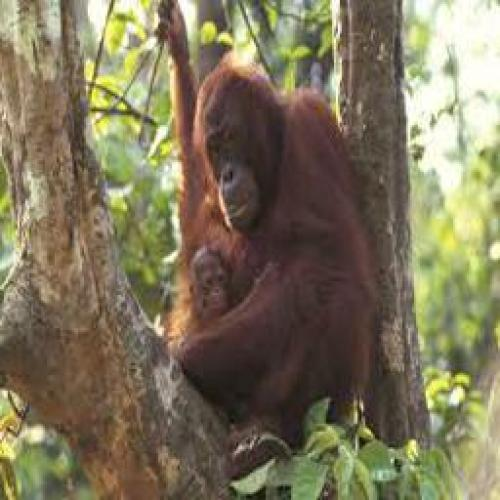orangutan-endangered: (155, 3, 372, 431), (176, 249, 235, 319)
